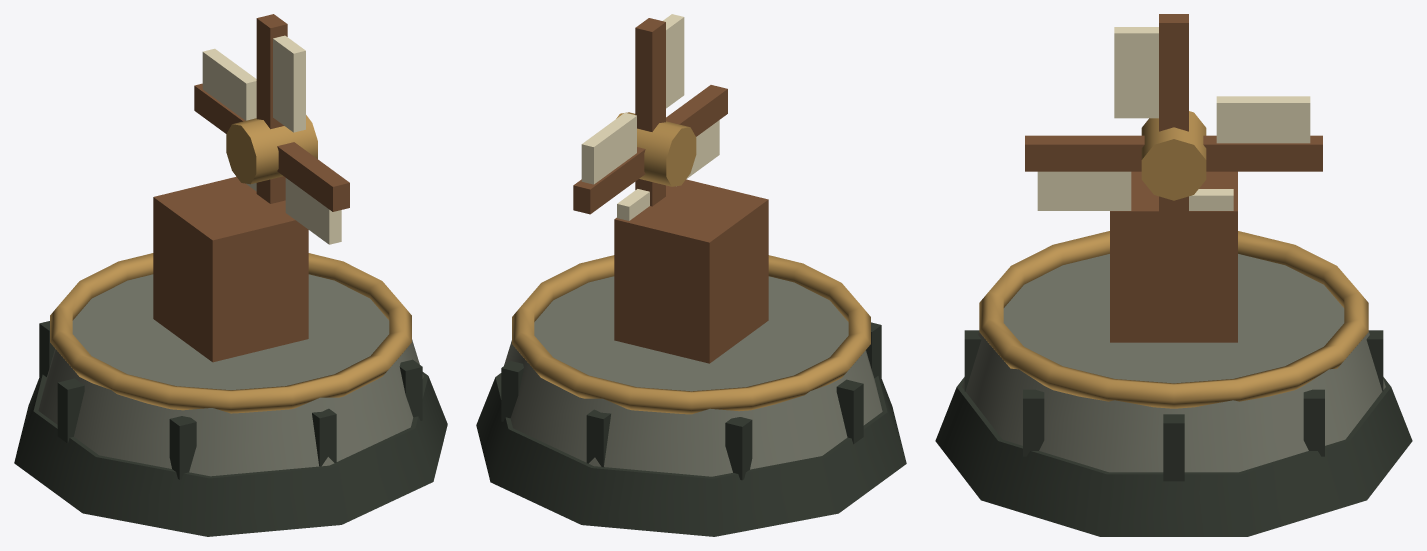
The model's file is tower_wind.glb.
The picture shows the model from 3 angles, left to right: view 1: azimuth 30°, elevation 25°; view 2: azimuth 150°, elevation 25°; view 3: azimuth 270°, elevation 25°; orthographic projection. The views are drawn at different scales.
Visible parts, largest first — view 1: stone_1, foot_0, mill_11, rim_2, hub_12, sail_16, spar_17, sail_14, spar_15, sail_18, mortar_6, mortar_7 (+5 smaller); view 2: stone_1, foot_0, mill_11, rim_2, spar_15, hub_12, sail_14, spar_13, spar_17, sail_16, mortar_8, mortar_7 (+5 smaller); view 3: stone_1, foot_0, rim_2, mill_11, hub_12, sail_14, spar_17, sail_16, sail_18, spar_13, spar_15, spar_19 (+6 smaller).
Part boxes in pixels (left/top/right/bottom): stone_1: left=38, top=274, right=423, bottom=476; foot_0: left=14, top=372, right=447, bottom=536; mill_11: left=153, top=176, right=308, bottom=362; rim_2: left=50, top=253, right=411, bottom=413; hub_12: left=226, top=115, right=317, bottom=184; sail_16: left=273, top=35, right=305, bottom=132; spar_17: left=277, top=142, right=349, bottom=211; sail_14: left=202, top=48, right=256, bottom=120; spar_15: left=256, top=14, right=287, bottom=129; sail_18: left=285, top=178, right=341, bottom=244; mortar_6: left=169, top=416, right=196, bottom=479; mortar_7: left=57, top=378, right=84, bottom=443; stone_1: left=500, top=276, right=882, bottom=476; foot_0: left=476, top=373, right=906, bottom=536; mill_11: left=614, top=179, right=768, bottom=363; rim_2: left=512, top=255, right=870, bottom=414; spar_15: left=635, top=18, right=665, bottom=131; hub_12: left=616, top=112, right=696, bottom=186; sail_14: left=581, top=112, right=636, bottom=184; spar_13: left=573, top=147, right=645, bottom=214; spar_17: left=666, top=85, right=727, bottom=136; sail_16: left=663, top=14, right=684, bottom=108; mortar_8: left=725, top=417, right=752, bottom=480; mortar_7: left=836, top=379, right=863, bottom=444; stone_1: left=962, top=254, right=1385, bottom=472; foot_0: left=935, top=377, right=1412, bottom=536; rim_2: left=979, top=231, right=1368, bottom=408; mill_11: left=1110, top=171, right=1237, bottom=342; hub_12: left=1141, top=111, right=1206, bottom=200; sail_14: left=1216, top=96, right=1310, bottom=143; spar_17: left=1025, top=135, right=1144, bottom=171; sail_16: left=1114, top=27, right=1158, bottom=118; sail_18: left=1037, top=171, right=1131, bottom=210; spar_13: left=1203, top=135, right=1322, bottom=171; spar_15: left=1159, top=14, right=1188, bottom=131; spar_19: left=1159, top=196, right=1188, bottom=293.
Size of the model in its own units: 0.5326 by 0.575 by 0.56.
